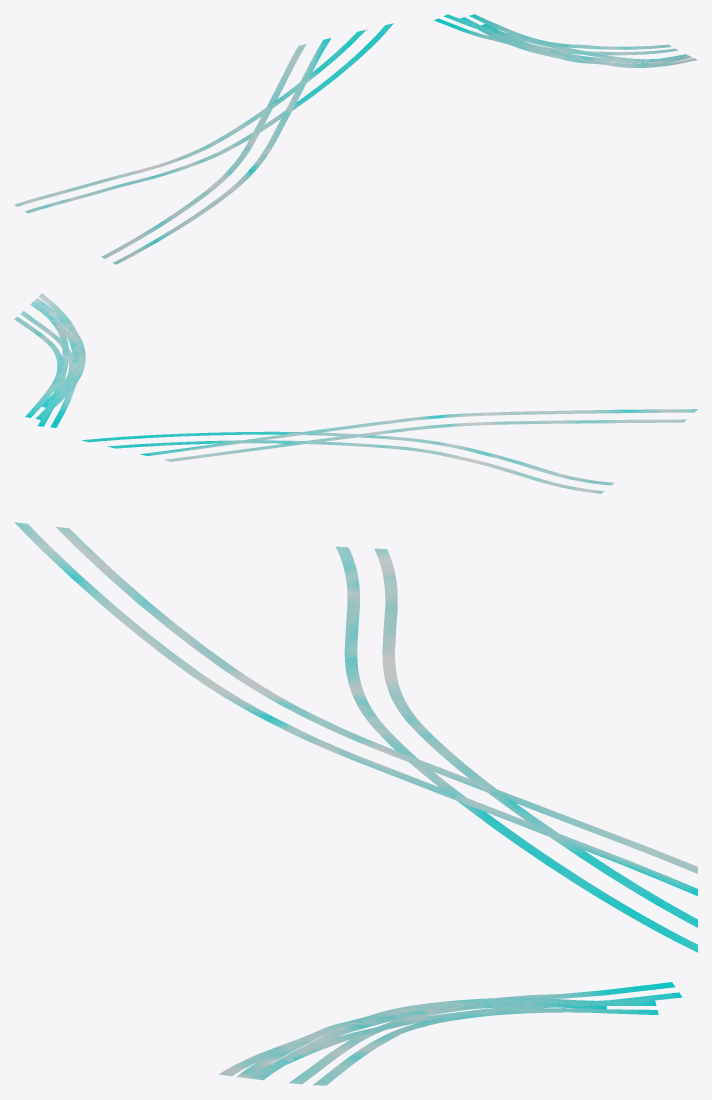
The picture shows the model from 3 angles, top to bottom: view 1: azimuth 30°, elevation 25°; view 2: azimuth 150°, elevation 25°; view 3: azimuth 270°, elevation 25°; orthographic projection. The views are drawn at different scales.
Visible parts, largest first — view 1: SpaceCenter_Long3_GenerateRoad_Sand_TireTracks_Narrow_Mesh_x; view 2: SpaceCenter_Long3_GenerateRoad_Sand_TireTracks_Narrow_Mesh_x; view 3: SpaceCenter_Long3_GenerateRoad_Sand_TireTracks_Narrow_Mesh_x.
Part boxes in pixels (<box>): SpaceCenter_Long3_GenerateRoad_Sand_TireTracks_Narrow_Mesh_x: <box>14,14,697,264</box>; SpaceCenter_Long3_GenerateRoad_Sand_TireTracks_Narrow_Mesh_x: <box>14,293,697,493</box>; SpaceCenter_Long3_GenerateRoad_Sand_TireTracks_Narrow_Mesh_x: <box>14,522,697,1085</box>.
Size of the model in its own units: 1174 by 2304 by 82.47.
